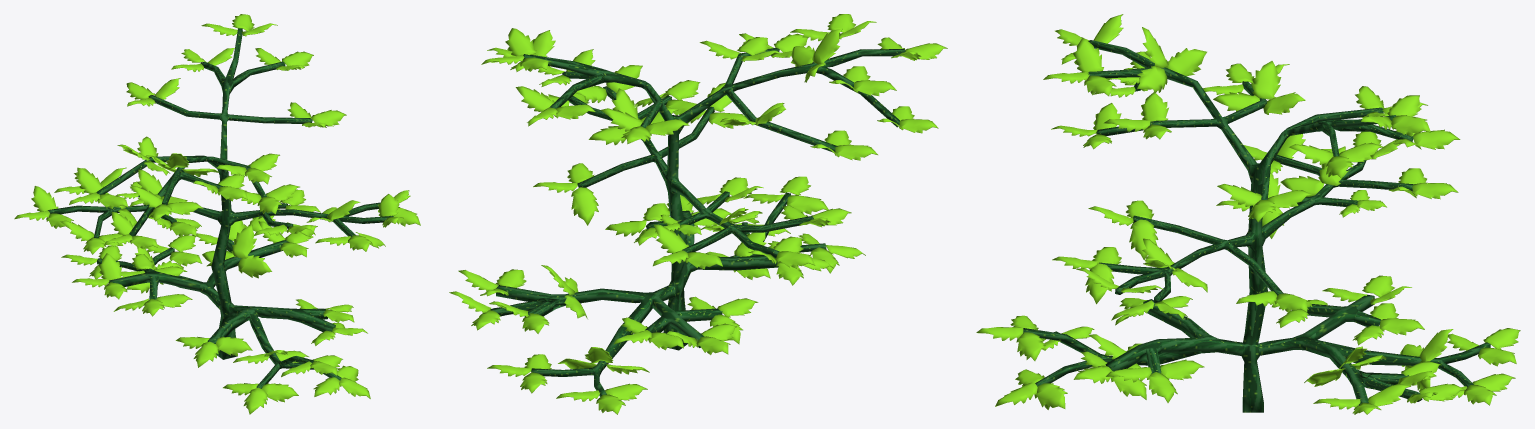
Rendered from Tomatera Grande.fbx.
3 renders of one model, left to right at view 1: azimuth 30°, elevation 25°; view 2: azimuth 150°, elevation 25°; view 3: azimuth 270°, elevation 25°, orthographic. The views are drawn at different scales.
Parts seen in each view (by area): view 1: Tomatera Grande; view 2: Tomatera Grande; view 3: Tomatera Grande.
Part boxes in pixels (box(x1,y1,x2,y2)): Tomatera Grande: box(14, 14, 420, 414); Tomatera Grande: box(449, 14, 947, 414); Tomatera Grande: box(976, 14, 1520, 414).
Size of the model in its own units: 1597 by 1840 by 1289.
Materials: 2 (1 with a texture image).
